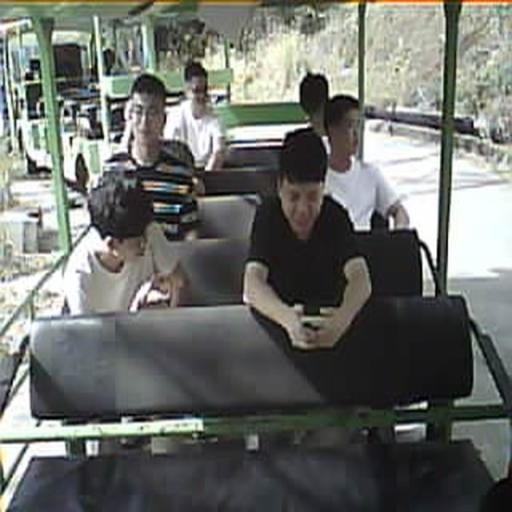persona: (241, 128, 373, 354), (62, 172, 189, 316), (299, 71, 410, 232), (101, 73, 204, 241), (164, 61, 226, 172)
